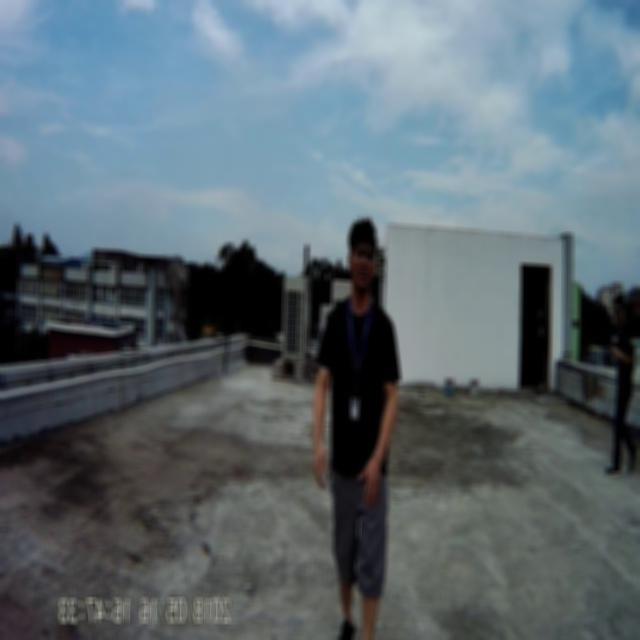Sin_Casco_Mascarrilla: (349, 219, 379, 293)
Sin_Chaleco: (328, 296, 389, 466)
